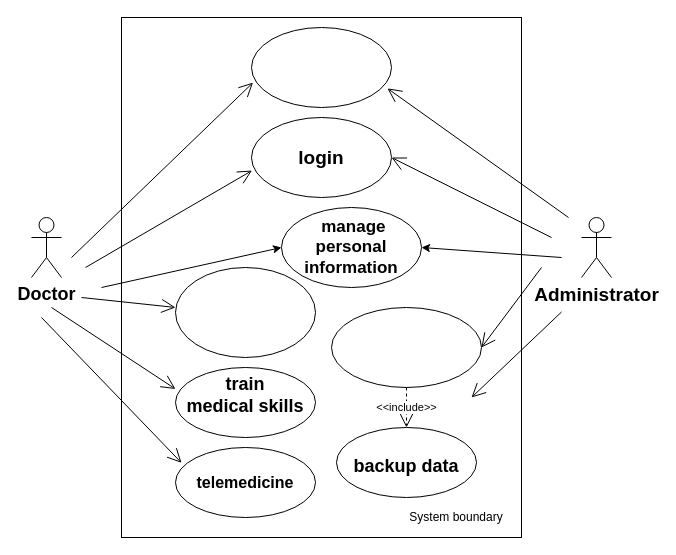
Some shapes in this 676 by 555 pixel diagram are drawn without their labels. The shapes that lost their labels are listed below. From the top down, each one's box as (x1, y1, x2, y2) in pixels, then its label:
(250, 26, 392, 108): register
(174, 266, 316, 358): construct 3D medical models
(330, 306, 482, 388): maintain system
